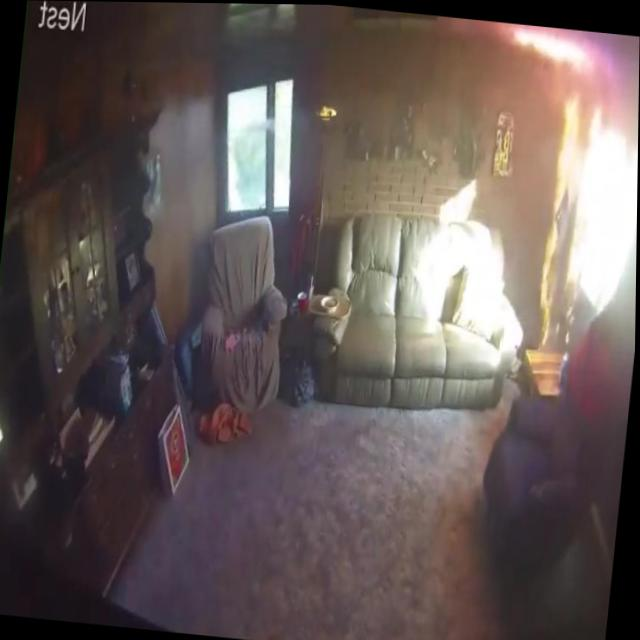fire: (530, 81, 609, 352), (504, 22, 638, 81)
